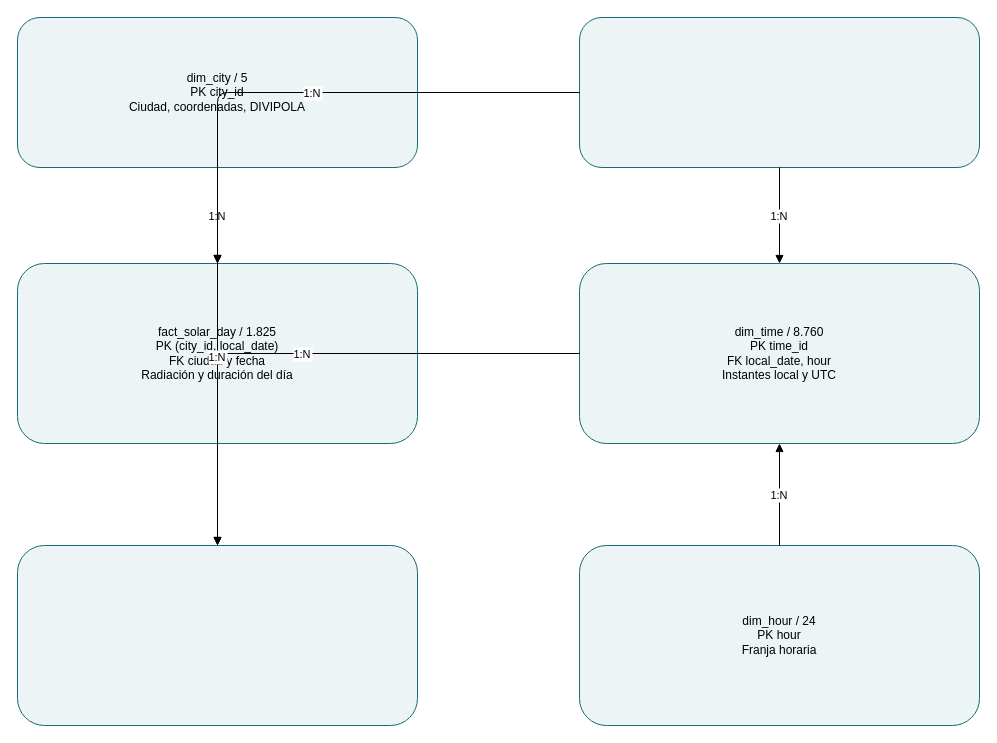
Image size: 997x743. Some labels were removed from this diagram. Each missing label, with the box of its shape:
dim_date / 365 PK local_date Calendario y festivos: (578, 16, 980, 168)
fact_hourly / 43.800 PK source_row FK city_id, time_id UNIQUE (city_id, time_id): (16, 544, 418, 726)
